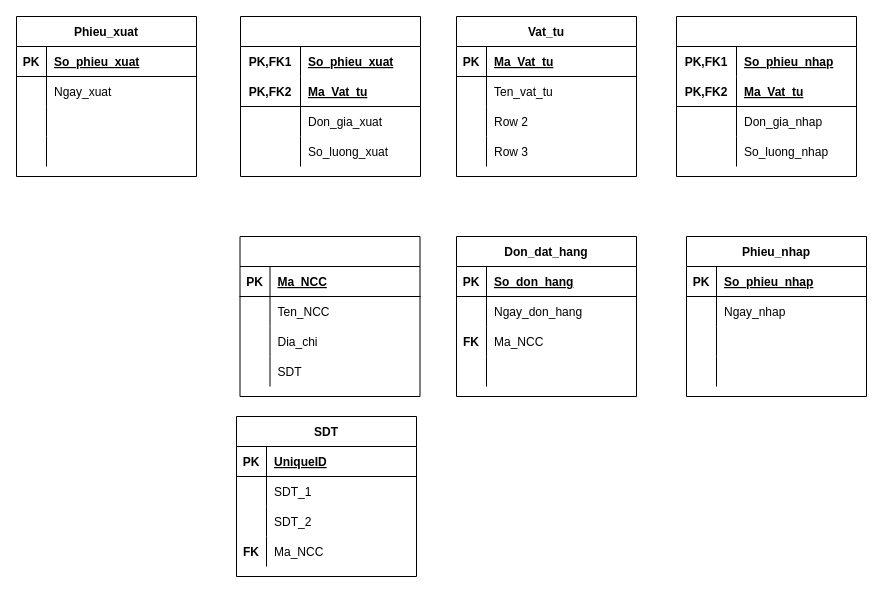
The diagram is 883 pixels wide and 593 high, and some of its shapes have lost their labels. The box of each missing label's shape, as (x1, y1, x2, y2) in pixels:
Nha_cung_cap: (239, 236, 420, 396)
Phieu_nhap_vat_tu: (676, 16, 856, 176)
Phieu_xuat_vat_tu: (240, 16, 420, 176)
